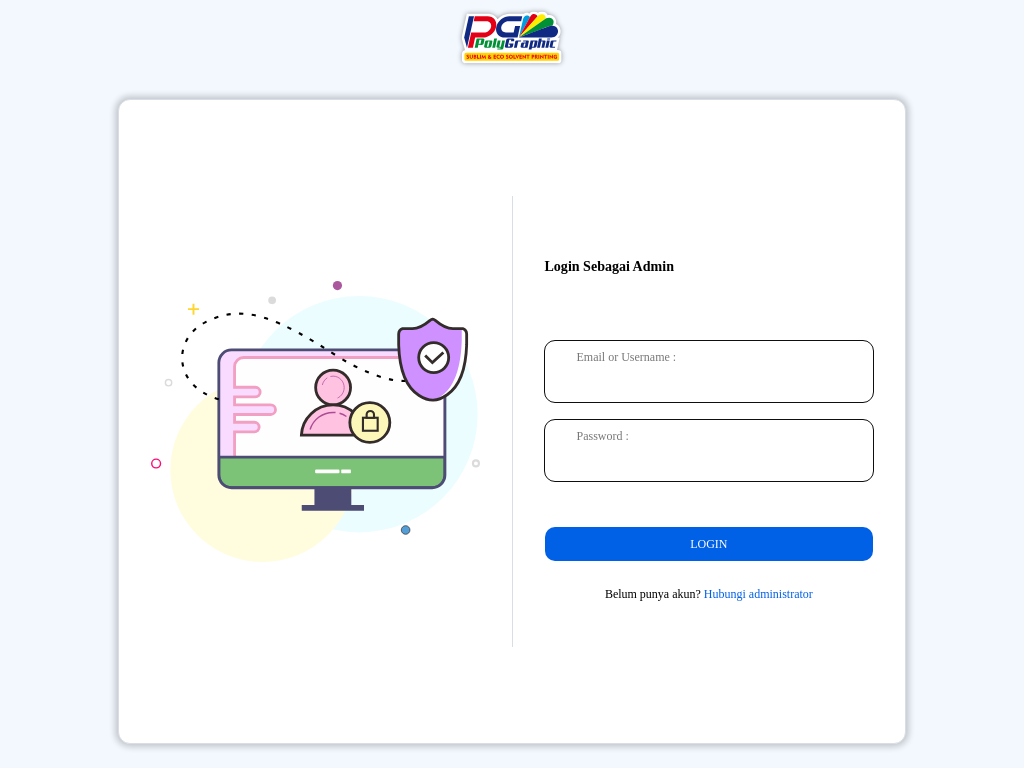
Test: Form submit data correctly › Show error for incorrect username or email or password input
This screenshot has width=1024, height=768.
Type "johndoe" into the field labelled "Email or Username :" at (709, 371), box [544,340,873,402]
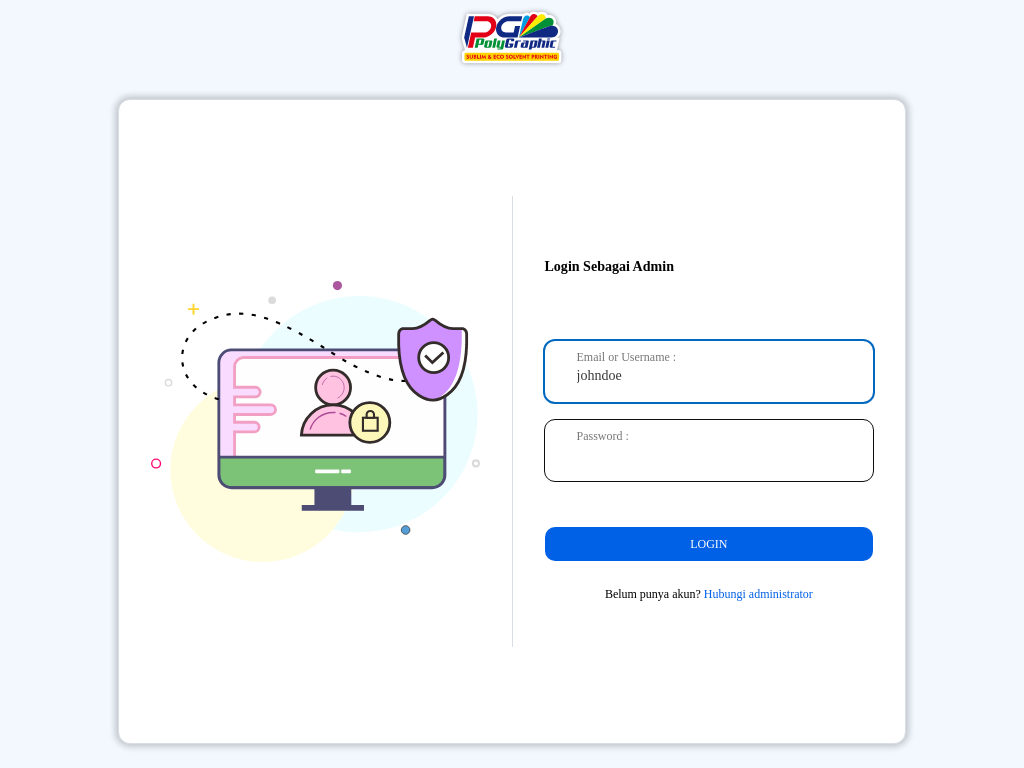
Type "johndoe123" into the password field labelled "Password :" at (709, 450), box [544,420,873,480]
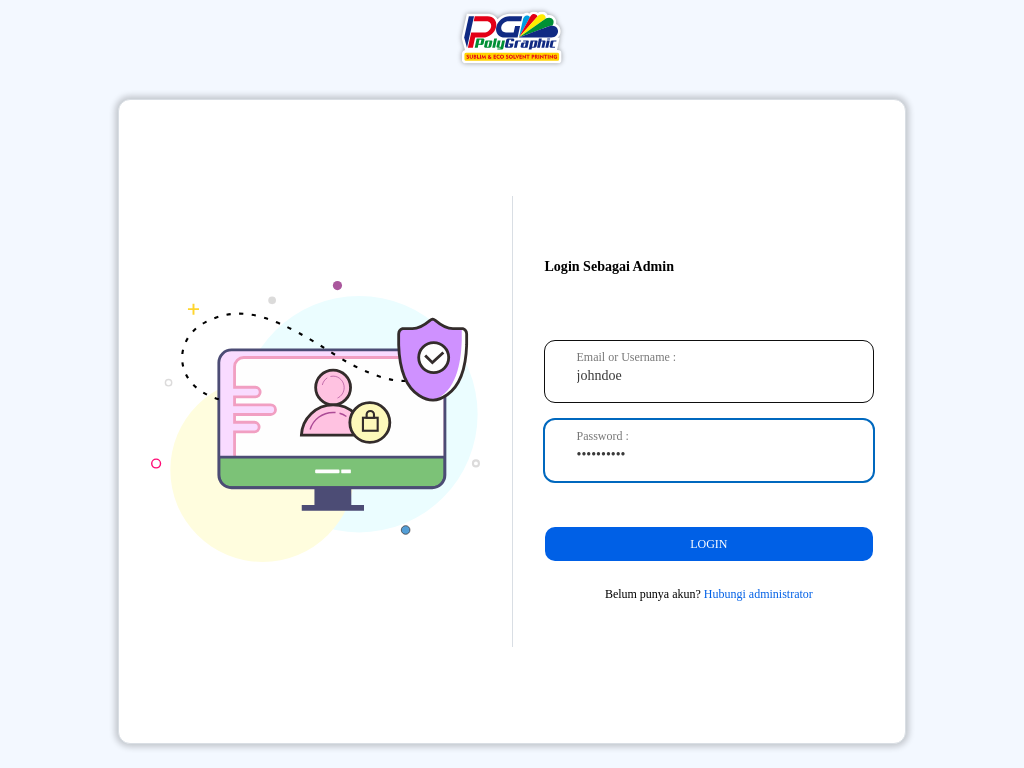
Click the button "LOGIN" at (709, 544), box [544,526,873,560]
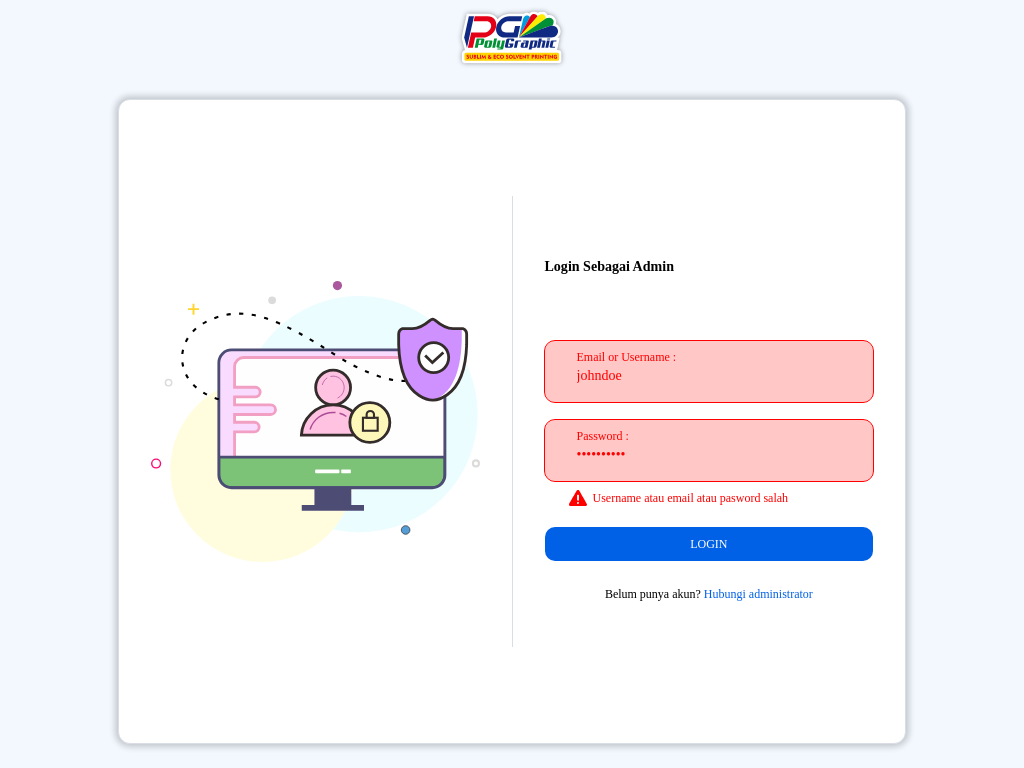
Now the text "Username atau email atau pasword salah" is shown, box [568,490,788,506]
